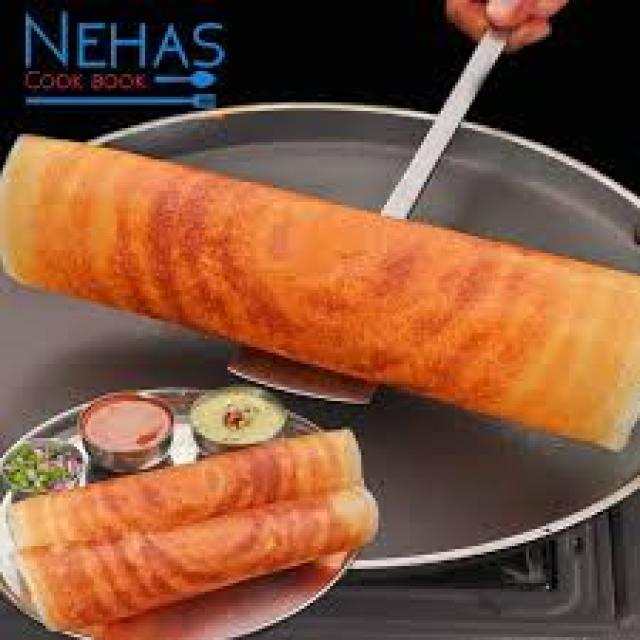DOSA: (0, 131, 637, 453), (23, 477, 375, 636), (6, 424, 363, 553)
